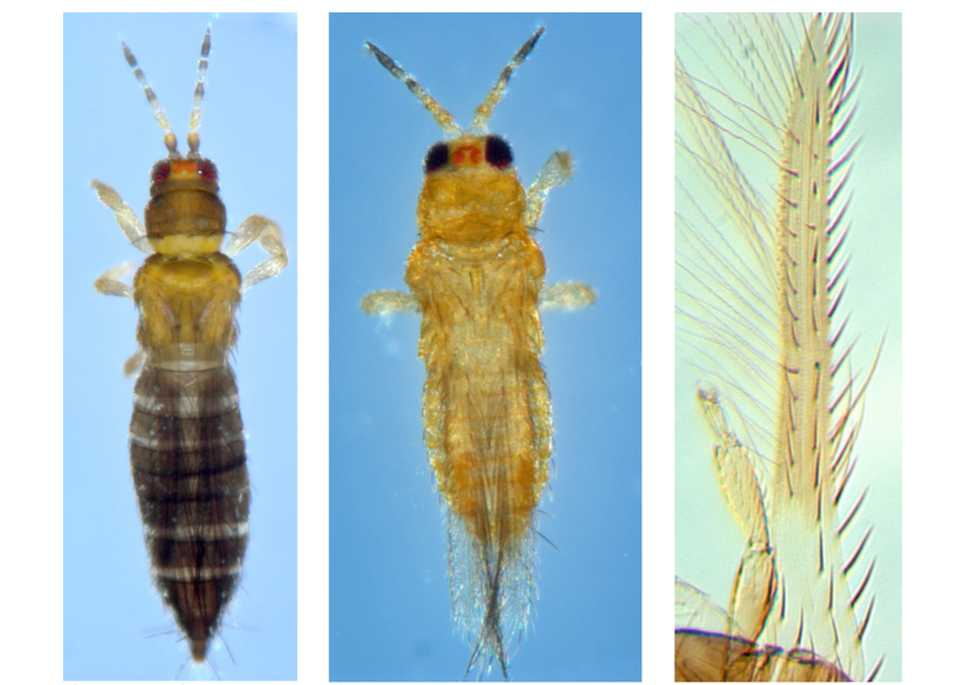Thrips: (361, 15, 620, 685), (99, 29, 284, 674)
